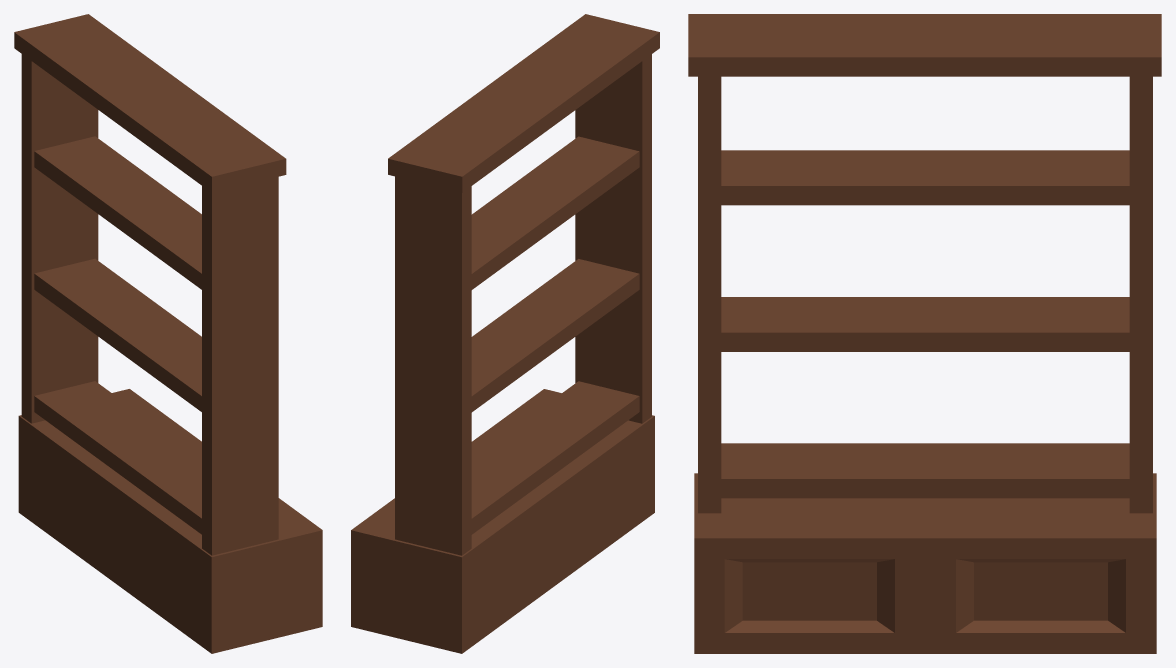
File: Shelf_02.fbx
The picture shows the model from 3 angles, left to right: view 1: azimuth 30°, elevation 25°; view 2: azimuth 150°, elevation 25°; view 3: azimuth 270°, elevation 25°; orthographic projection. The views are drawn at different scales.
Parts seen in each view (by area): view 1: Shelf_02; view 2: Shelf_02; view 3: Shelf_02.
Boxes of the visible parts, x1,y1,x2,y2 form: Shelf_02: (14,14,322,653); Shelf_02: (351,14,659,653); Shelf_02: (688,14,1161,653).
Size of the model in its own units: 105 by 423 by 316.
